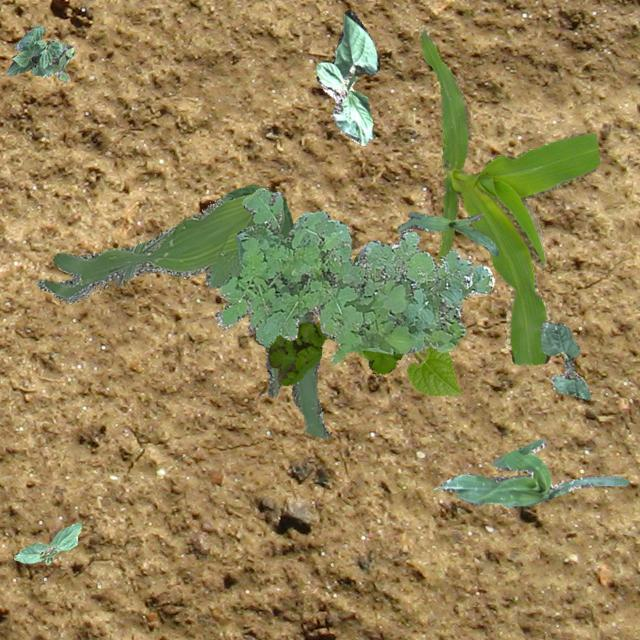crop: (418, 24, 598, 363), (438, 438, 628, 506), (314, 9, 378, 144), (354, 346, 460, 394), (396, 212, 498, 254), (540, 322, 590, 398), (5, 24, 60, 76), (12, 522, 80, 564)
weed: (37, 184, 330, 438), (214, 186, 494, 364), (252, 322, 402, 384), (48, 41, 74, 80)
